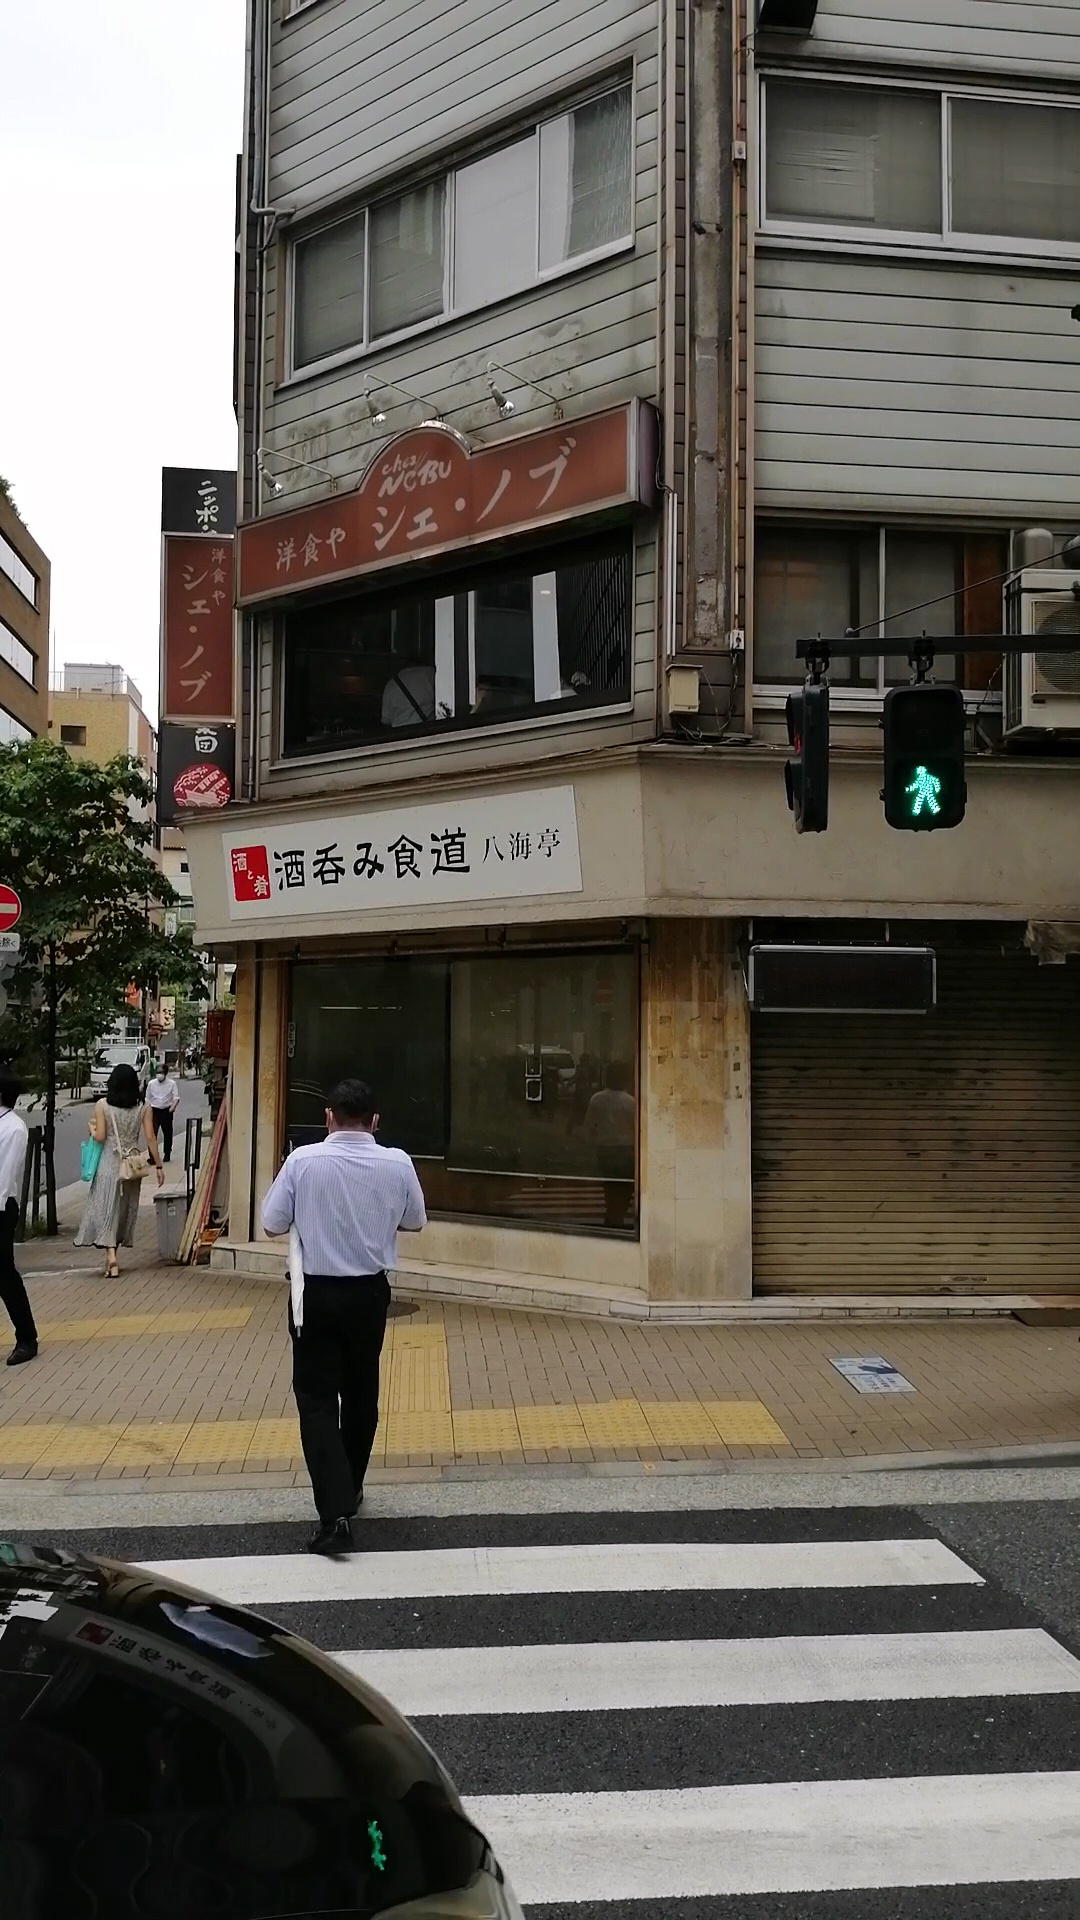green: (882, 686, 967, 829)
